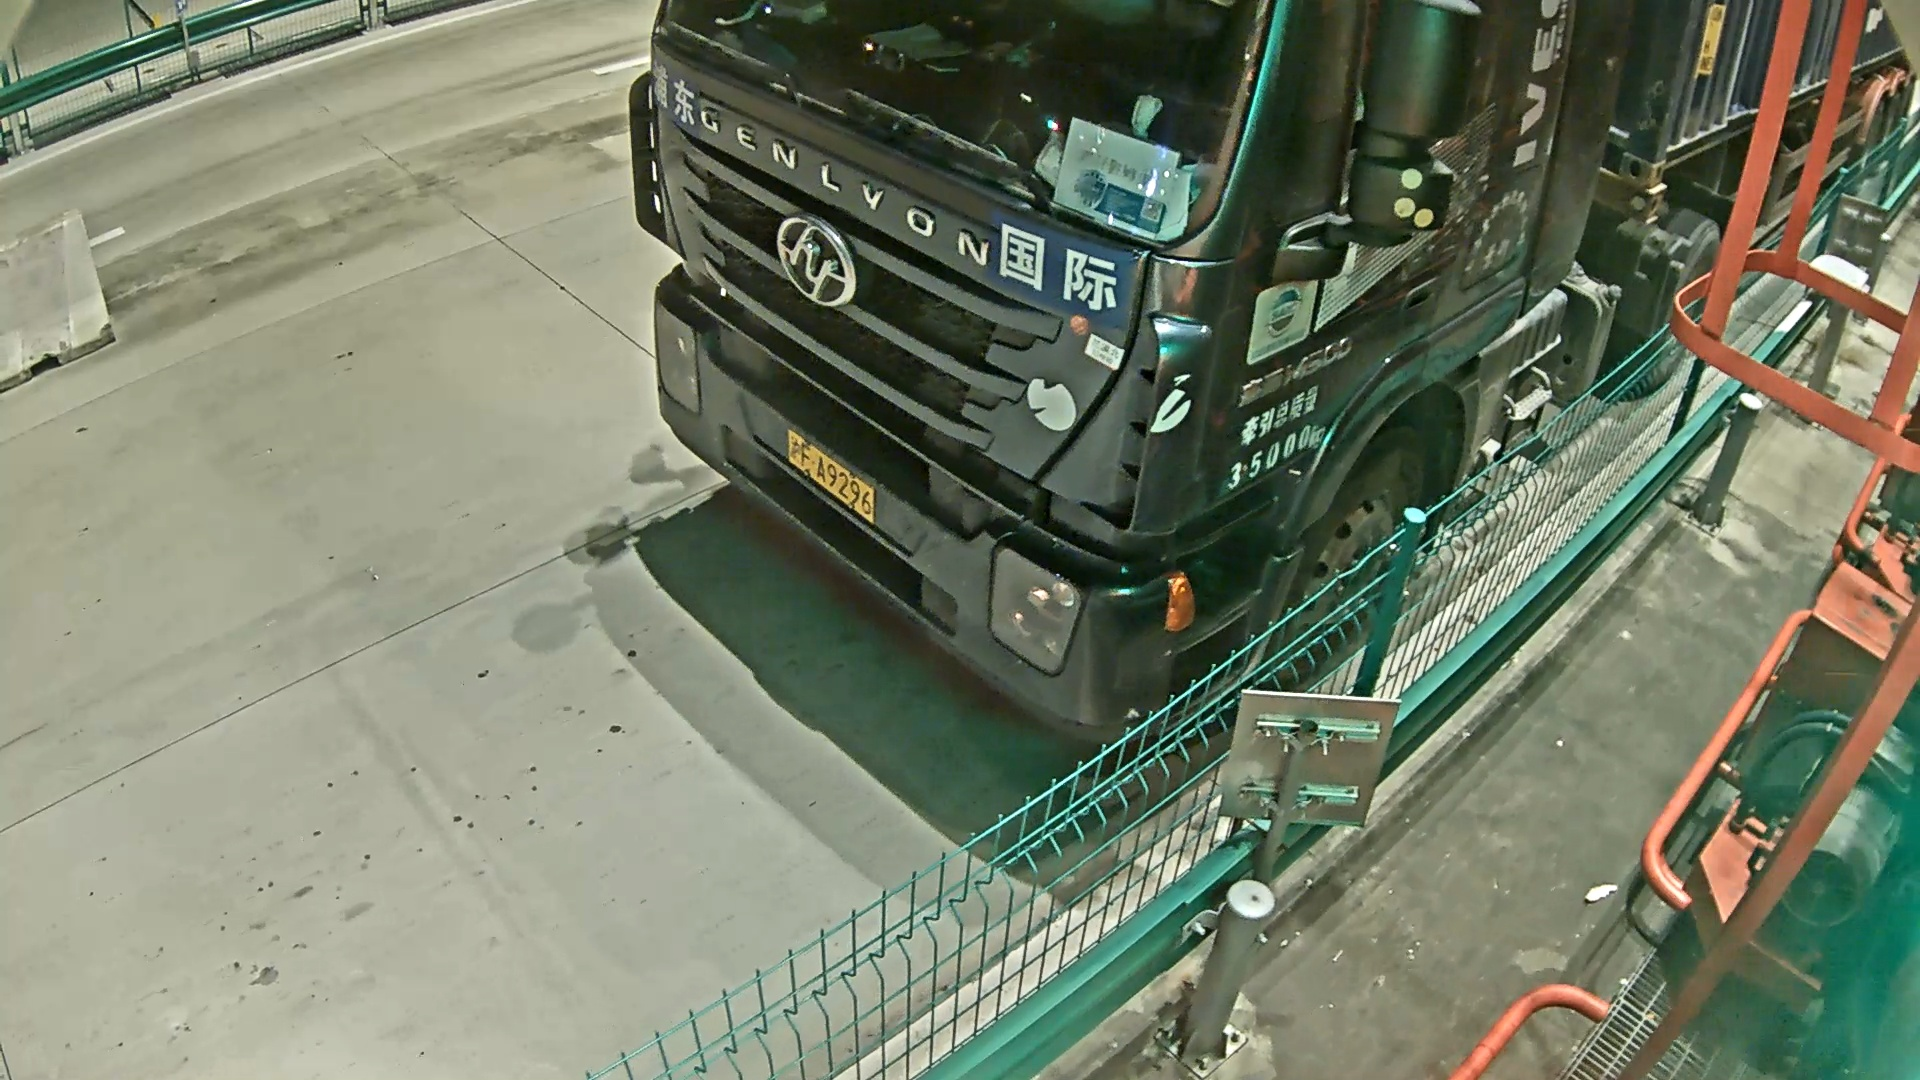head: (644, 14, 1383, 755)
plate: (785, 435, 904, 527)
